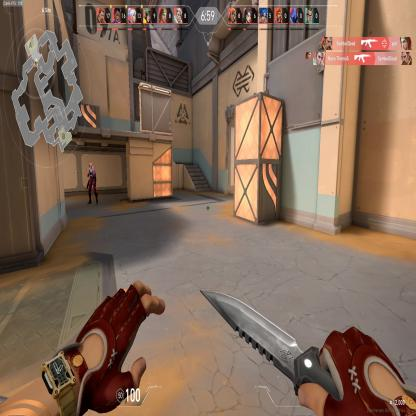enemy: (86, 162, 98, 206)
